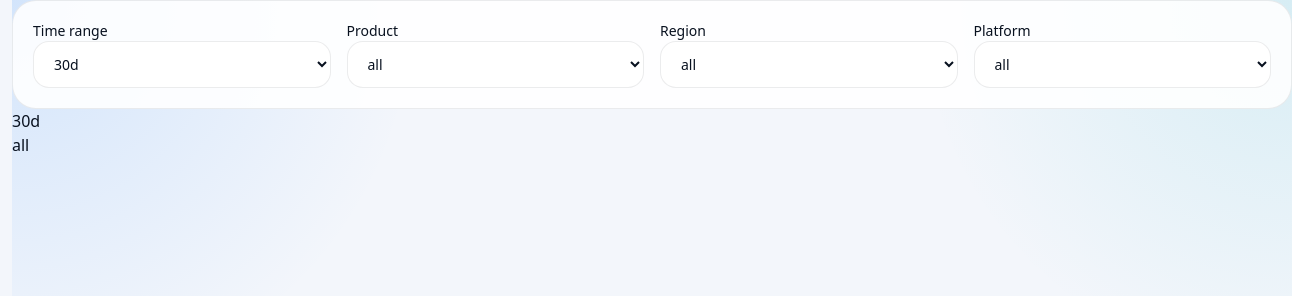
Test case: FilterBar › updates range and product selections
Select "90d" in the dropdown labelled "Time range": (182, 64) [33,41,330,88]
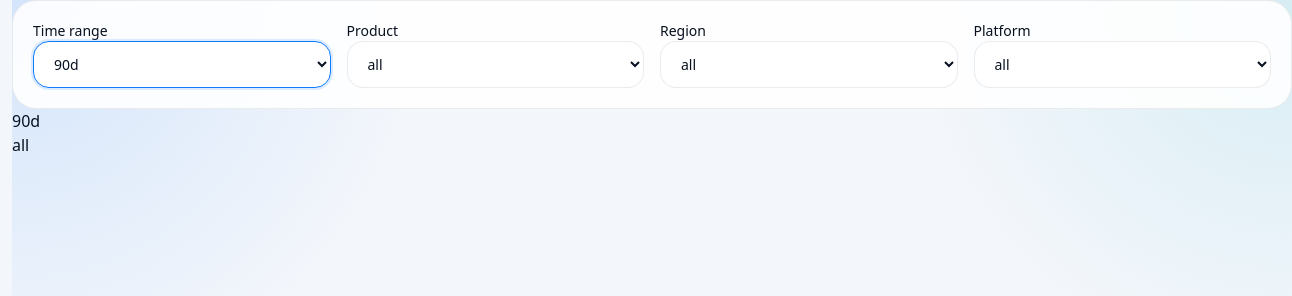
Select "pro" in the dropdown labelled "Product": (495, 64) [346,41,644,88]
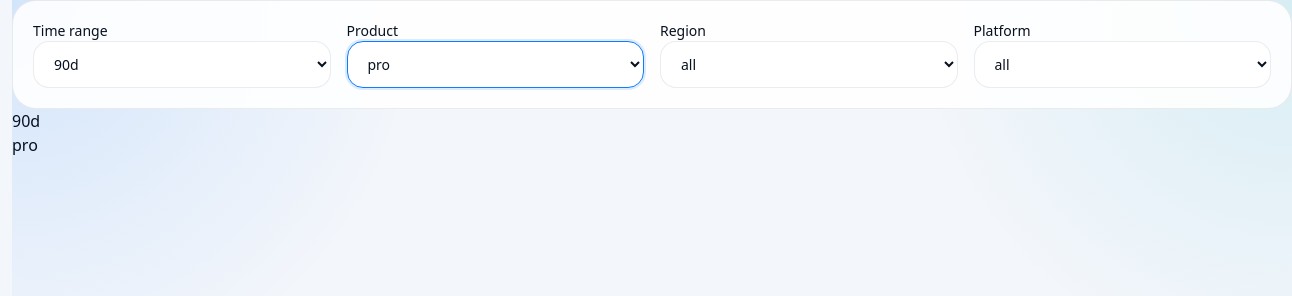
Result: the text with test id "range-value" reads "90d" at [12,110,40,132]
Result: the text with test id "product-value" reads "pro" at [12,134,38,156]
